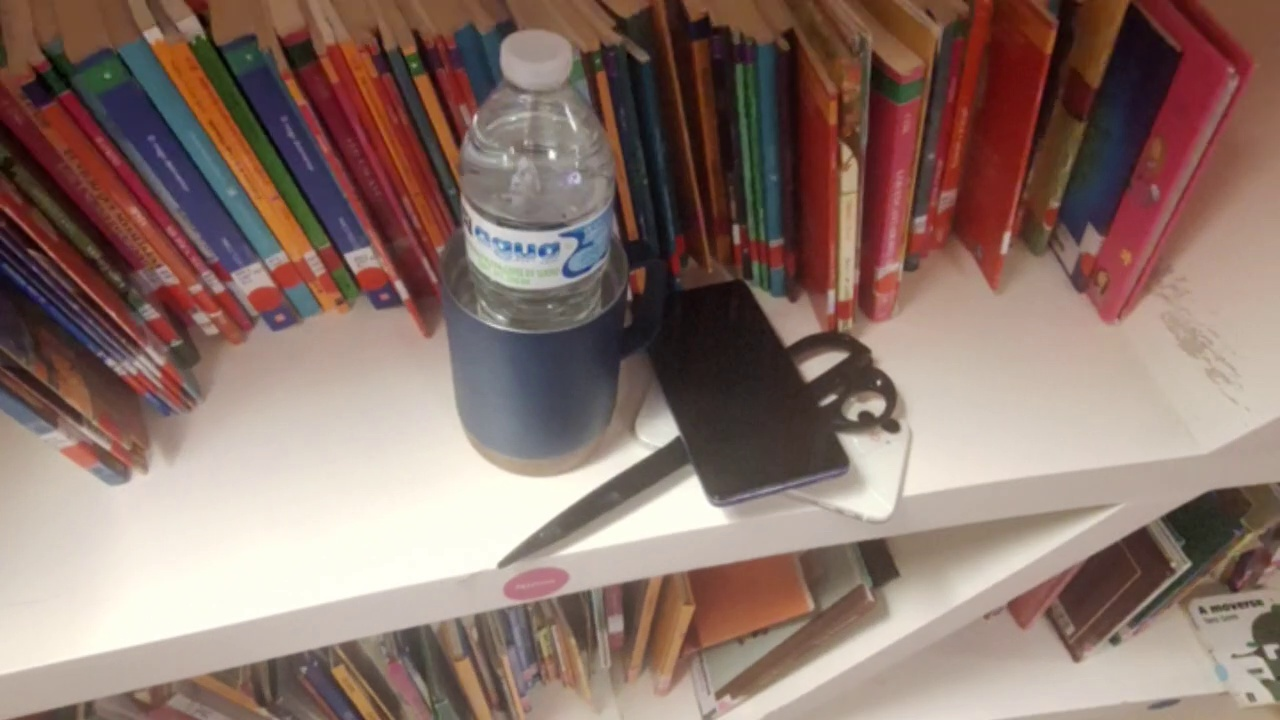botella: (443, 33, 630, 477)
